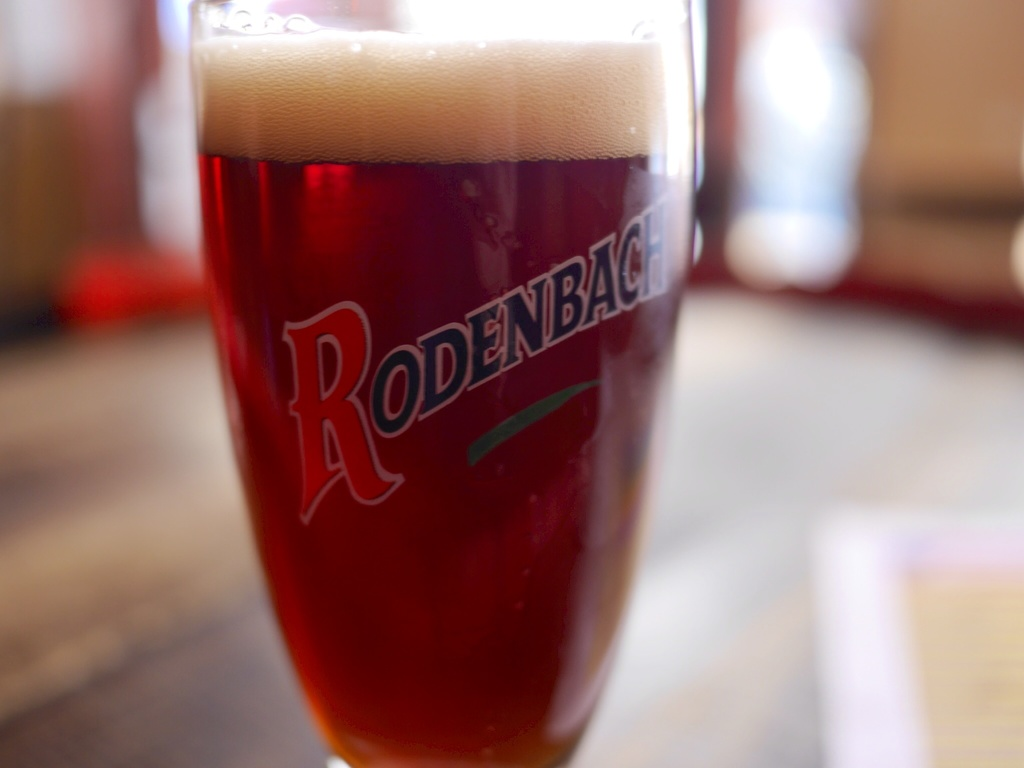Beer: (171, 0, 698, 768)
